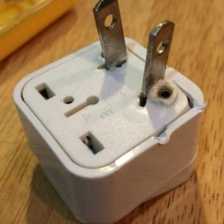three_eye_plug: (10, 0, 209, 224)
